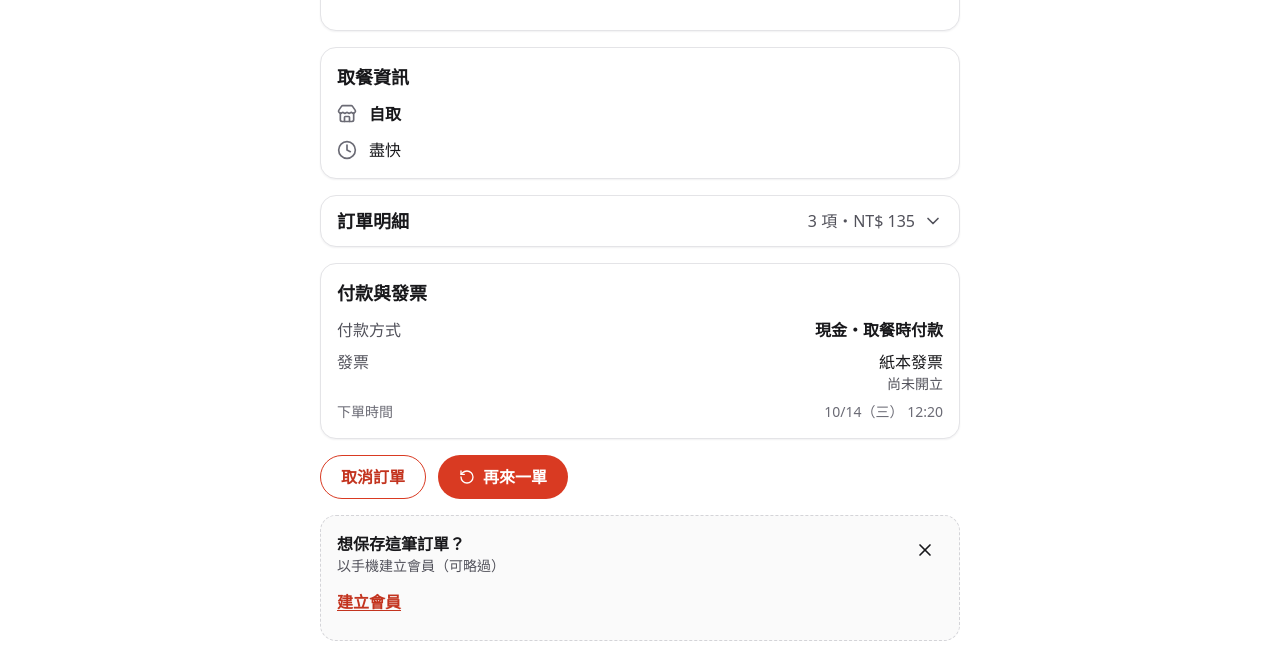
OrderPage：取消訂單 › 二次確認（預設焦點在「保留訂單」）、帶原因取消，成功後更新畫面
This screenshot has width=1280, height=665.
(page scrolled)
Click the button "取消訂單" at (373, 477), box x1=320 y1=455 x2=426 y2=499
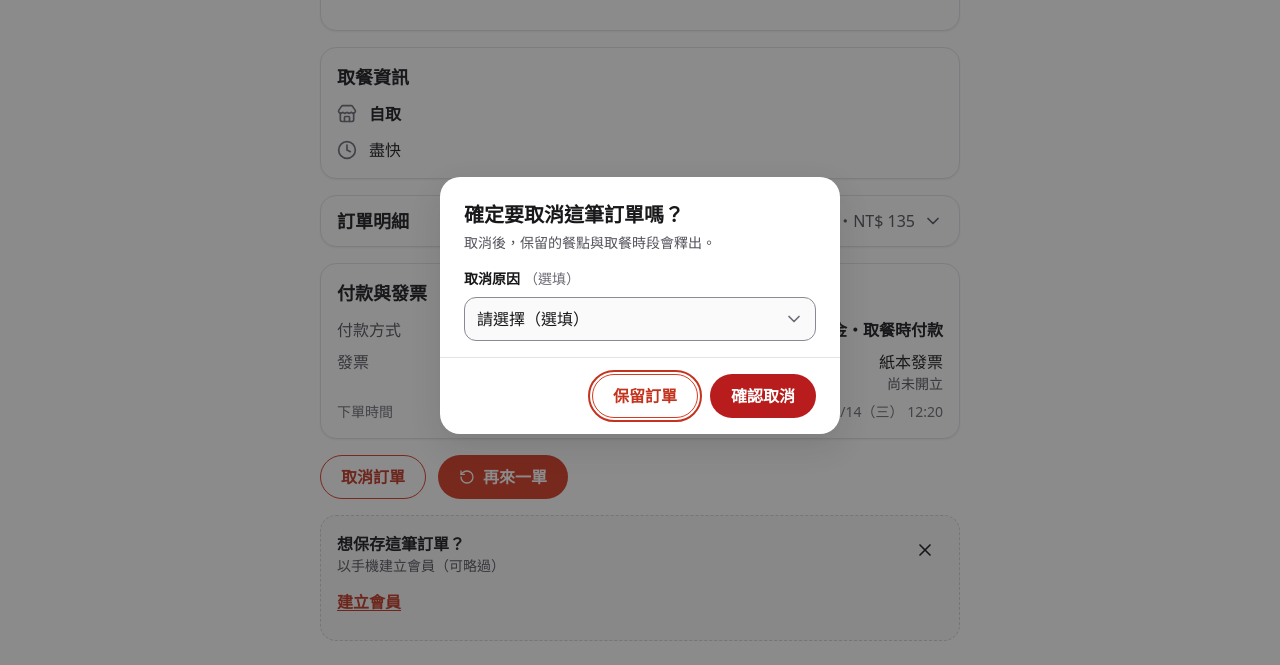
Select "不小心點錯了" in the dropdown labelled "取消原因（選填）" at (640, 318), box x1=464 y1=296 x2=816 y2=340
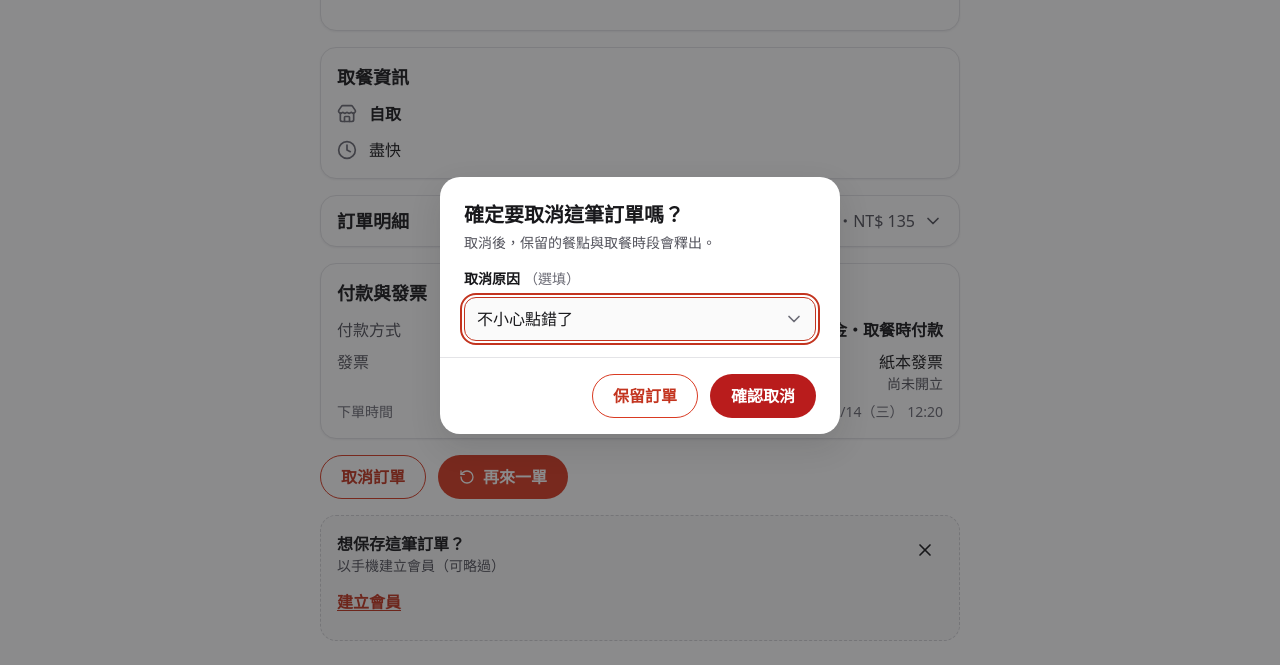
Click the button "確認取消" at (763, 396), box x1=710 y1=374 x2=816 y2=418
(page scrolled)
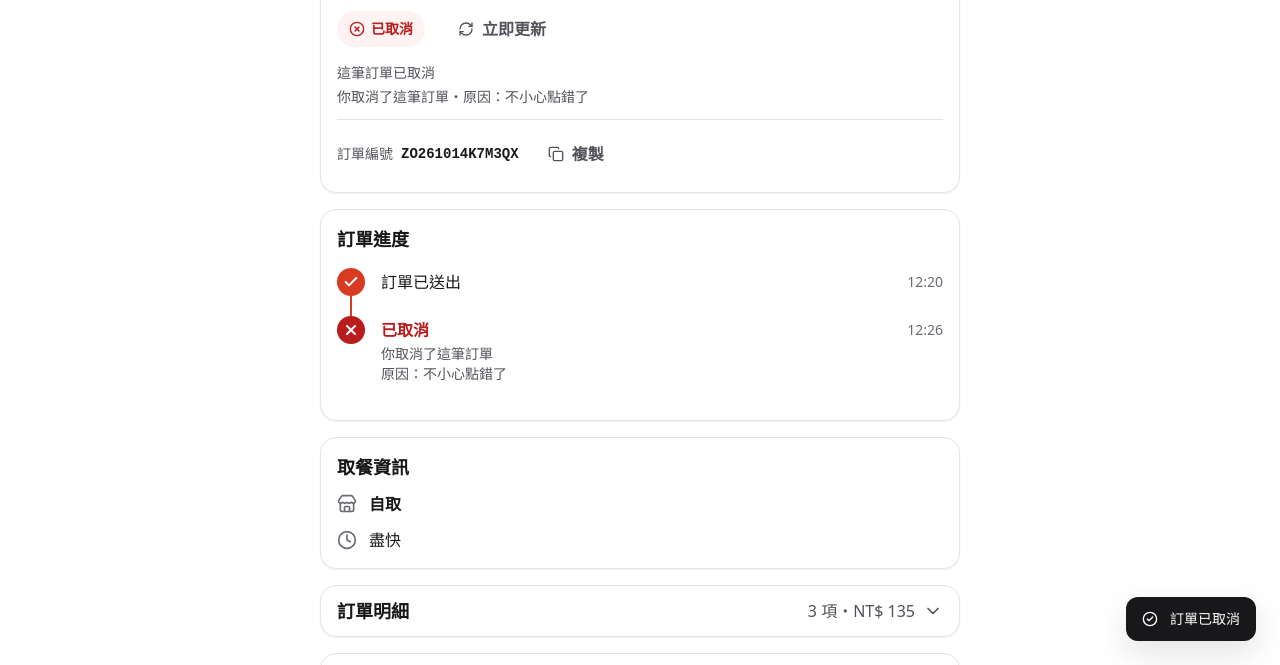
expect the text "訂單已取消" is shown: met, box x1=1170 y1=609 x2=1240 y2=629
expect the button "取消訂單" is gone: met
expect the list item with test id "timeline-cancelled" shows "原因：不小心點錯了": met, box x1=381 y1=364 x2=507 y2=383
